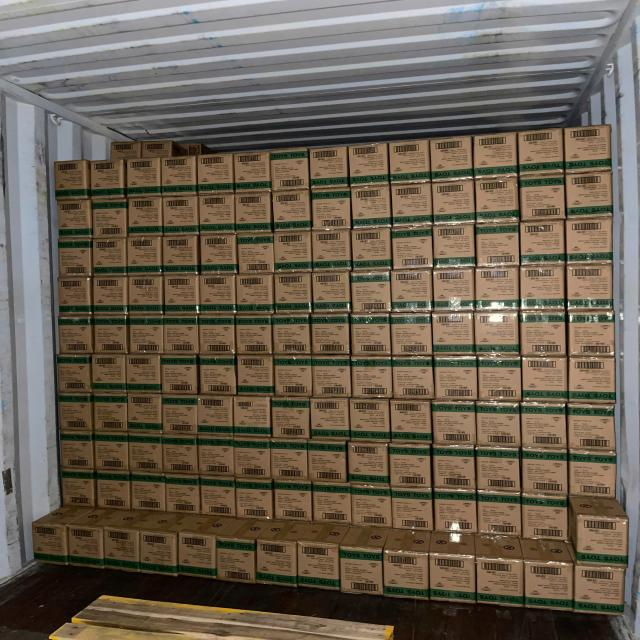Carton: (574, 510, 628, 560), (574, 566, 626, 617), (566, 402, 616, 454), (522, 563, 574, 613), (567, 449, 618, 498), (518, 401, 567, 452), (476, 560, 525, 610), (568, 309, 616, 360), (567, 356, 617, 404), (475, 445, 522, 496), (430, 556, 477, 607), (565, 218, 614, 266), (473, 400, 521, 449), (566, 263, 614, 312), (382, 552, 429, 602), (522, 447, 568, 498), (338, 544, 383, 596), (567, 170, 613, 220), (431, 398, 476, 449), (520, 309, 566, 358), (477, 489, 522, 539), (521, 495, 568, 542), (519, 265, 565, 313), (521, 356, 567, 404), (432, 354, 478, 402), (520, 177, 566, 225), (388, 441, 433, 490), (432, 443, 477, 492), (477, 356, 522, 404), (432, 487, 478, 533), (475, 312, 520, 359), (432, 180, 476, 228), (475, 177, 519, 225), (215, 536, 258, 585), (519, 222, 565, 267), (432, 311, 476, 358), (476, 221, 520, 268), (297, 543, 341, 590), (474, 268, 520, 312), (392, 484, 435, 531), (432, 270, 477, 314), (349, 355, 392, 401), (433, 222, 476, 268), (392, 355, 435, 401), (347, 442, 390, 488), (392, 312, 434, 359), (270, 313, 312, 359), (256, 542, 298, 588), (392, 400, 434, 446), (350, 312, 391, 358), (392, 181, 433, 227), (177, 535, 217, 582), (349, 400, 391, 444), (349, 270, 391, 314), (311, 354, 351, 400), (312, 478, 352, 524), (308, 439, 348, 485), (138, 532, 179, 576), (272, 478, 313, 522), (392, 270, 433, 314), (273, 230, 313, 275), (235, 476, 275, 521), (273, 354, 313, 399), (432, 139, 474, 181), (234, 354, 275, 397), (350, 185, 390, 229), (29, 522, 69, 566), (473, 135, 518, 174), (103, 528, 142, 573), (198, 473, 237, 518), (197, 434, 236, 479), (234, 435, 272, 481), (271, 437, 309, 483), (310, 313, 350, 356), (270, 397, 310, 440), (350, 484, 390, 527), (198, 232, 237, 276), (234, 313, 273, 357), (58, 428, 96, 473), (272, 191, 312, 233), (197, 273, 237, 315), (198, 354, 238, 396), (392, 229, 434, 269), (233, 395, 272, 438), (161, 433, 200, 476), (126, 432, 164, 476), (390, 143, 431, 183), (235, 274, 274, 316), (311, 271, 350, 313), (310, 399, 349, 441), (54, 197, 93, 239), (55, 392, 94, 434), (66, 526, 104, 569), (92, 431, 130, 474), (55, 352, 93, 395), (162, 314, 200, 357), (94, 468, 132, 511), (237, 231, 274, 275), (198, 313, 235, 357), (162, 393, 199, 437), (518, 130, 563, 166), (565, 127, 611, 162), (350, 229, 390, 269), (274, 272, 312, 314), (162, 274, 200, 316), (162, 354, 200, 396), (59, 466, 96, 509), (164, 472, 201, 515), (161, 196, 200, 236), (311, 192, 351, 231), (162, 235, 200, 276), (126, 275, 164, 316), (310, 148, 348, 189), (126, 236, 163, 278), (198, 394, 235, 436), (235, 192, 272, 234), (311, 231, 351, 269), (126, 197, 163, 238), (127, 314, 164, 355), (199, 194, 236, 235), (130, 471, 167, 512), (92, 314, 128, 356), (56, 236, 92, 278), (92, 392, 126, 436), (127, 392, 163, 433), (126, 354, 162, 394), (91, 354, 127, 394), (57, 315, 93, 355), (56, 278, 92, 317), (348, 143, 388, 178), (93, 276, 128, 316), (92, 238, 127, 278), (92, 200, 128, 238), (271, 158, 310, 192), (235, 152, 271, 188), (524, 542, 577, 566), (198, 155, 234, 187), (126, 159, 162, 191), (476, 538, 522, 562), (162, 158, 198, 188), (90, 161, 126, 191), (384, 529, 430, 552), (54, 161, 88, 191), (430, 536, 474, 558)
